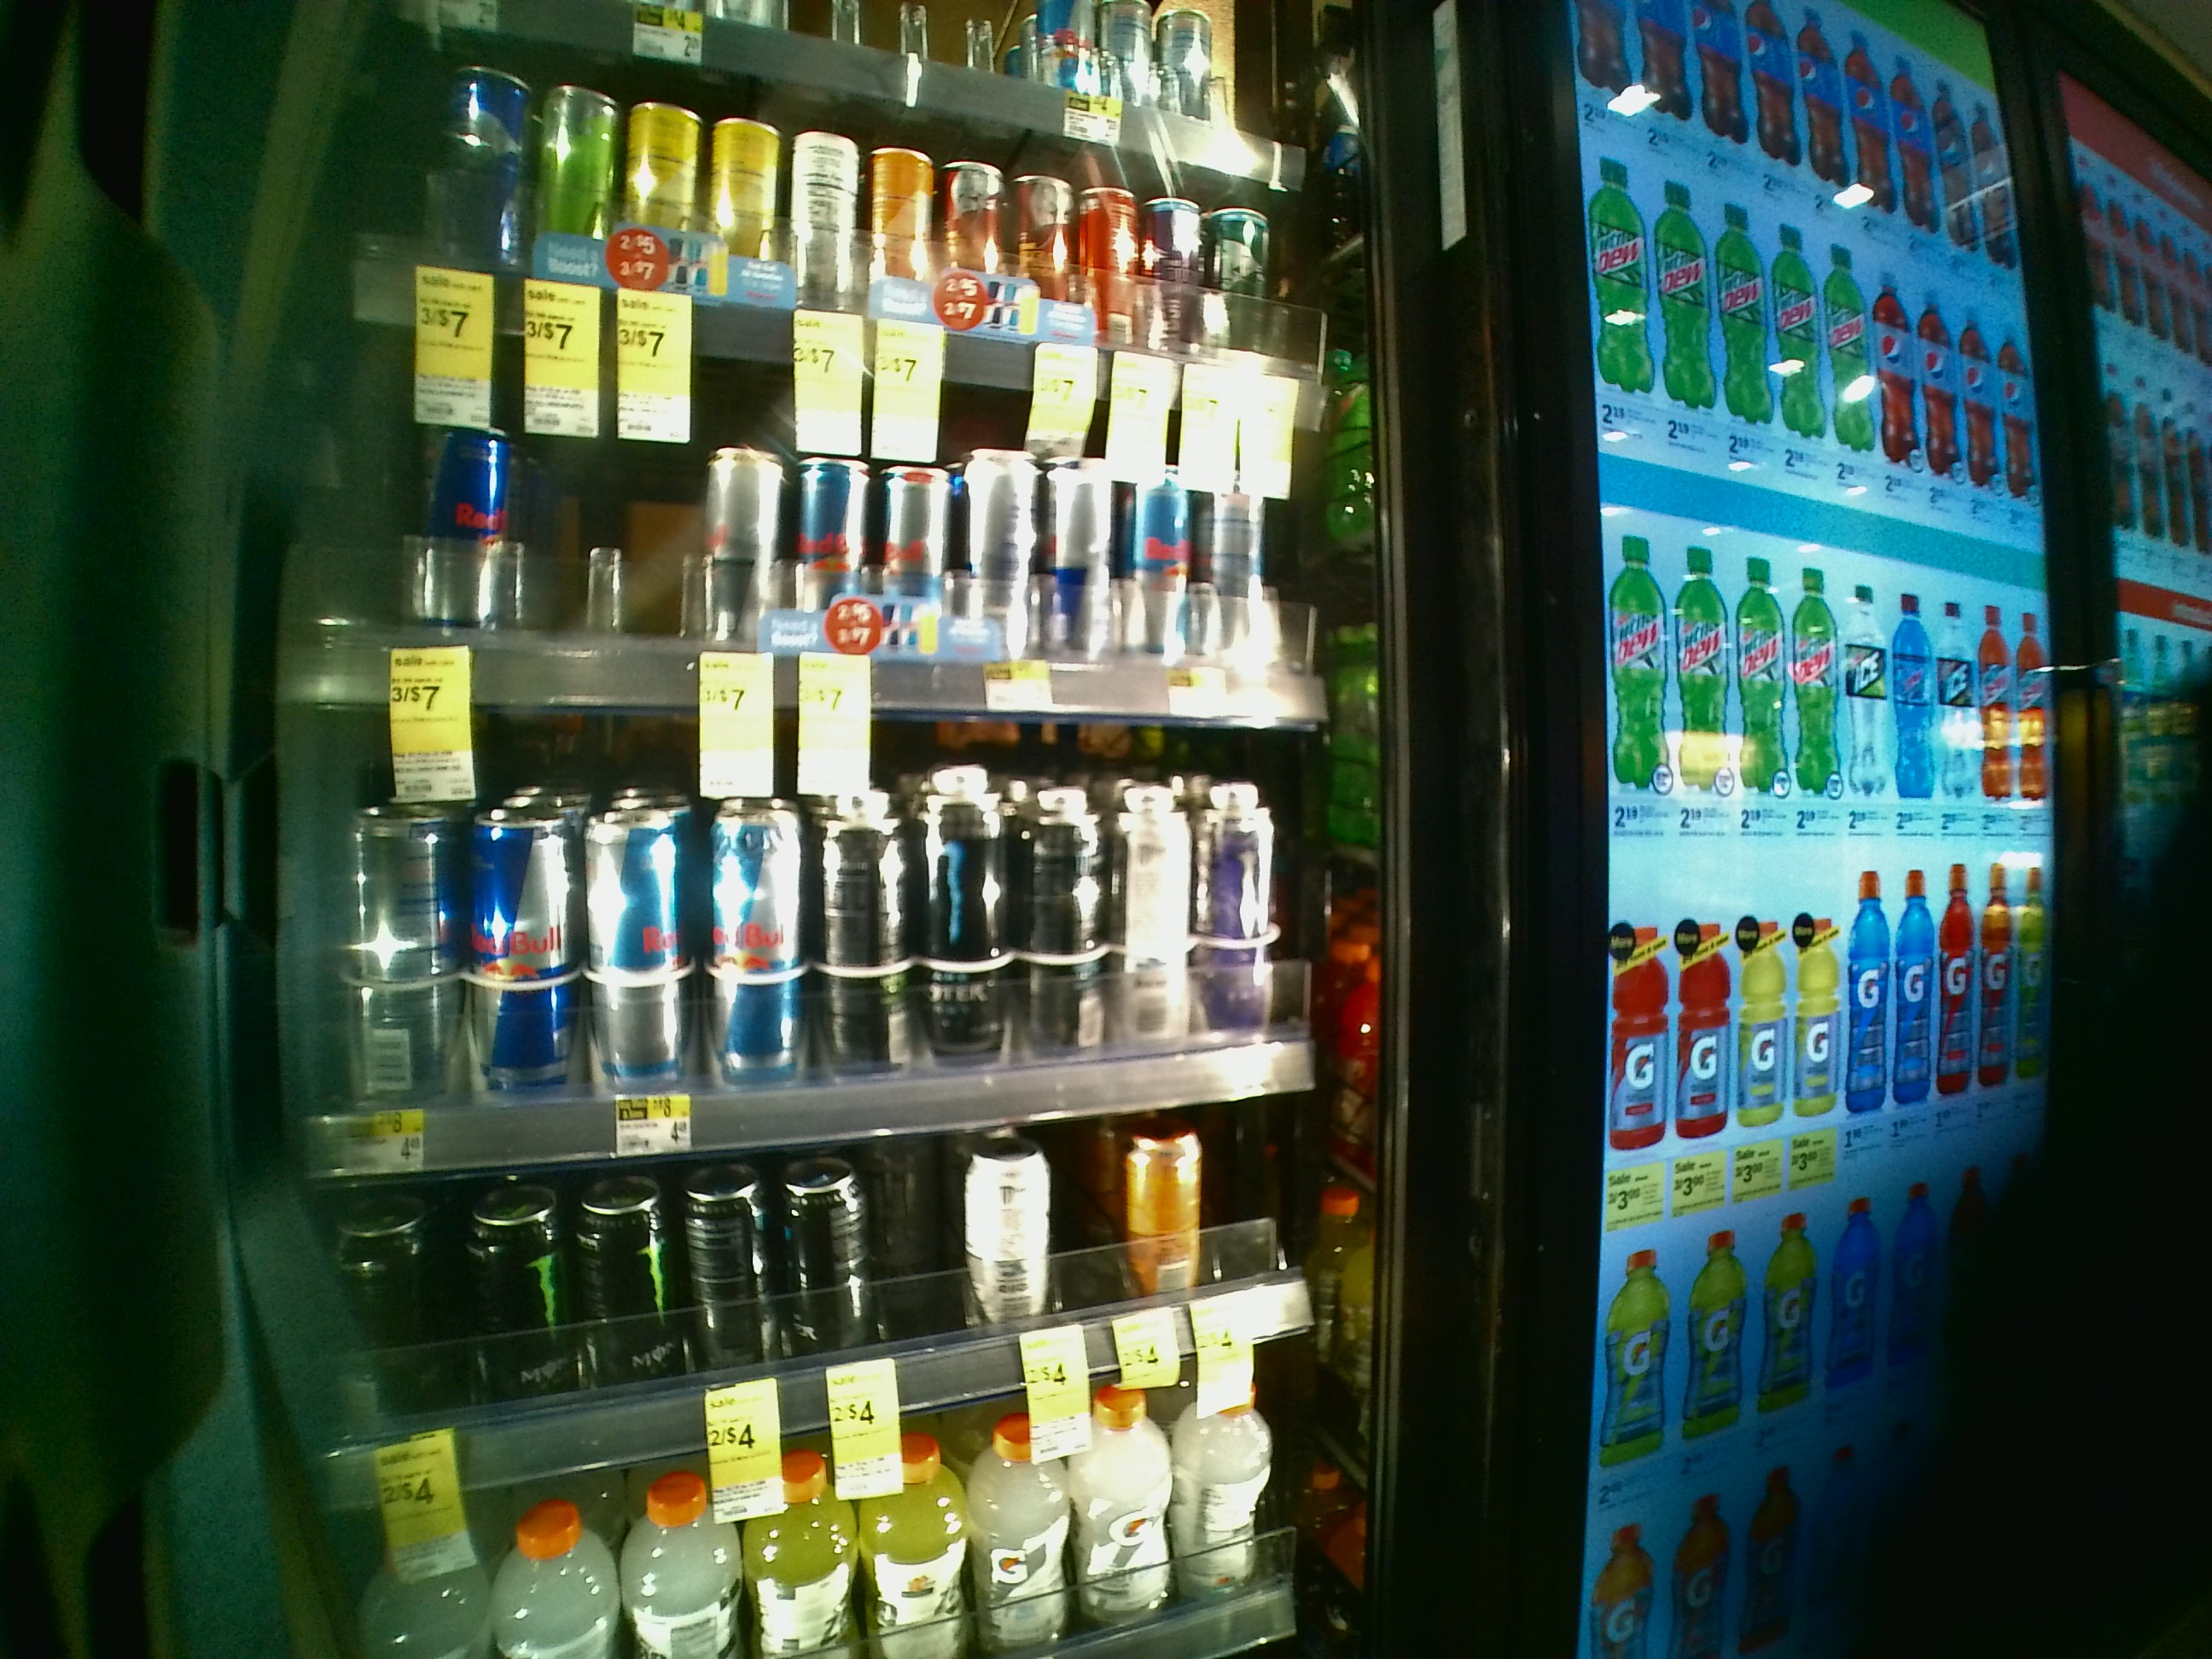shelf: (254, 694, 1409, 1127)
